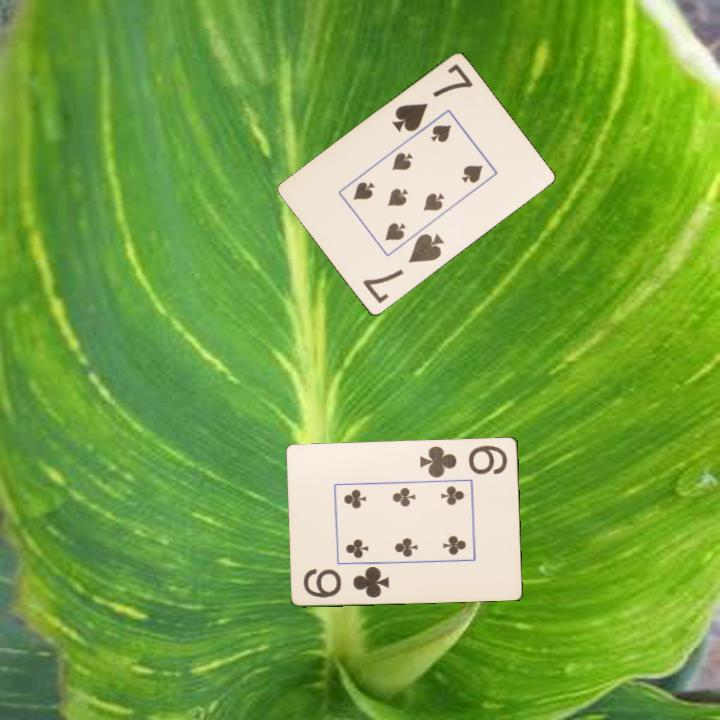6c: (417, 442, 510, 480), (300, 562, 393, 600)
7s: (359, 230, 448, 307), (389, 60, 476, 135)
